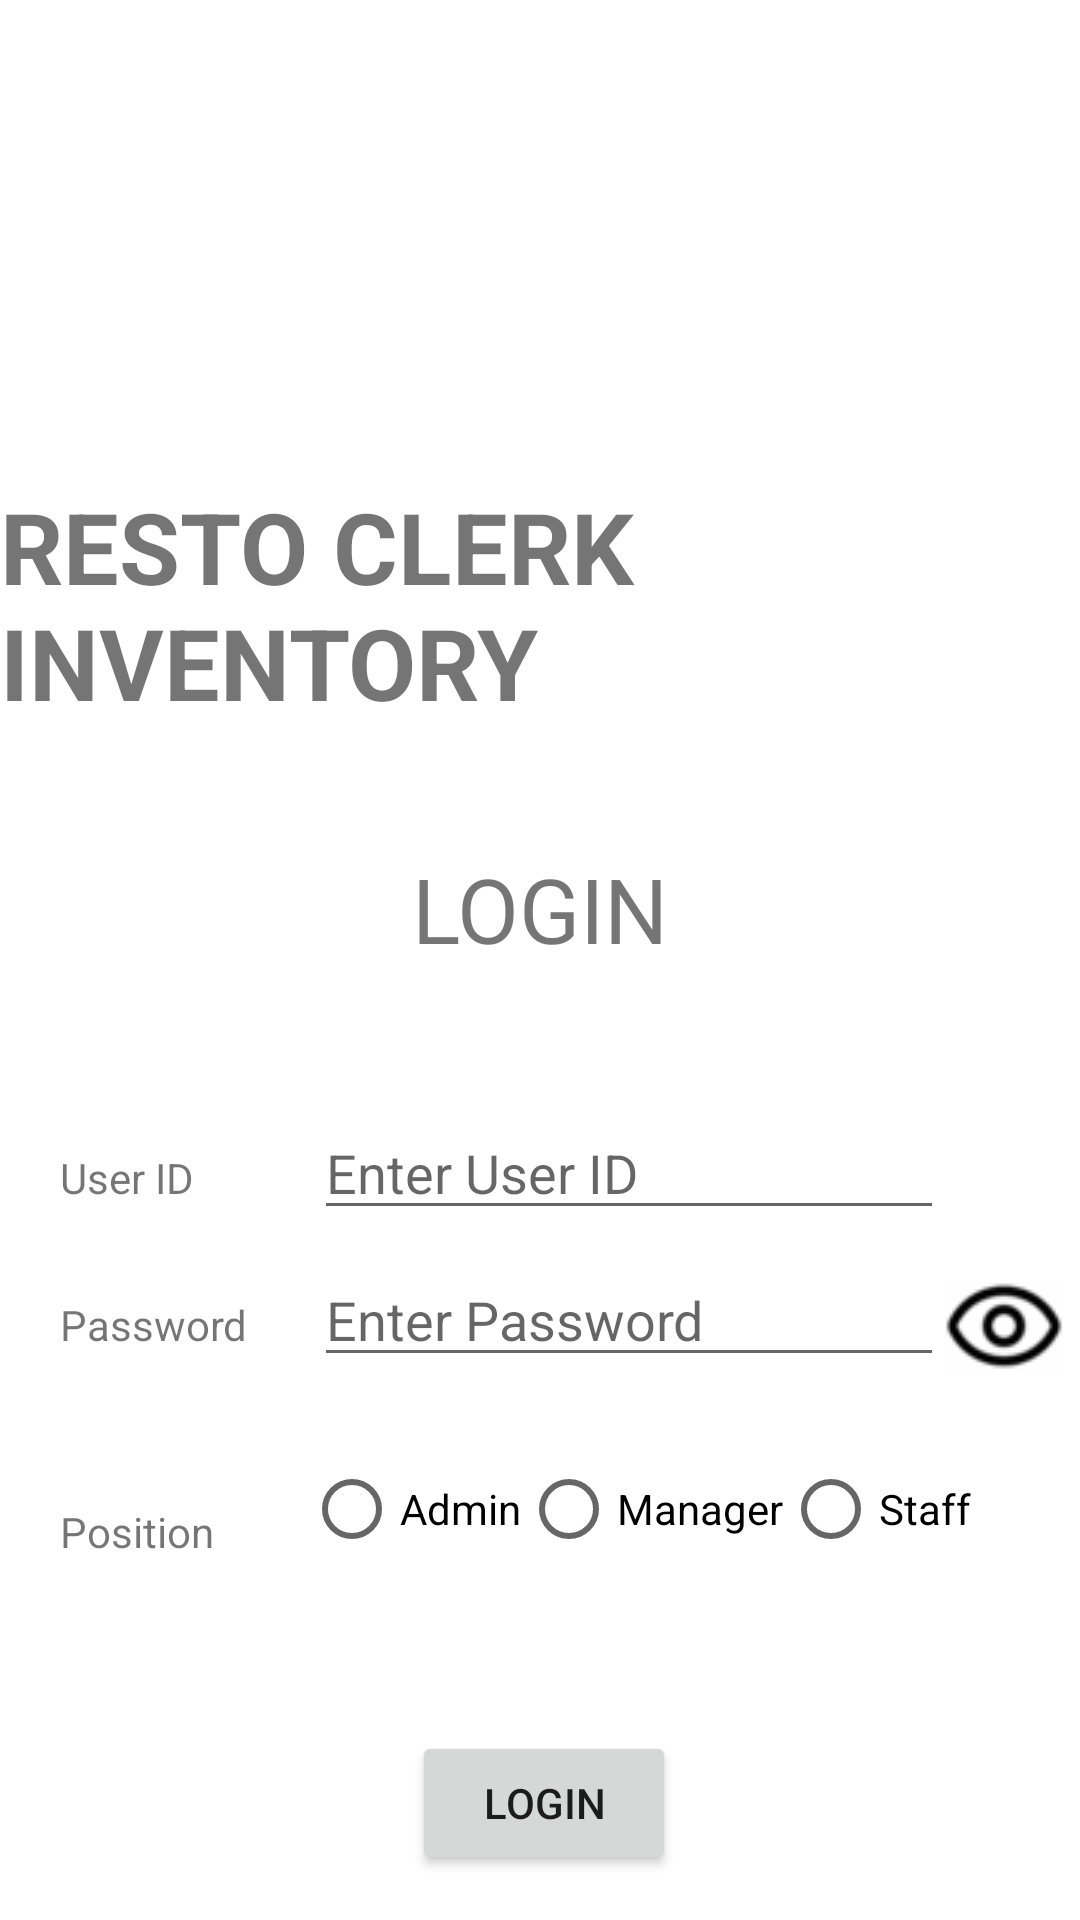

Named icons in this screenshot (1080 x 1920) and their centers, [x,y]:
showthepassword: [1004,1326]
